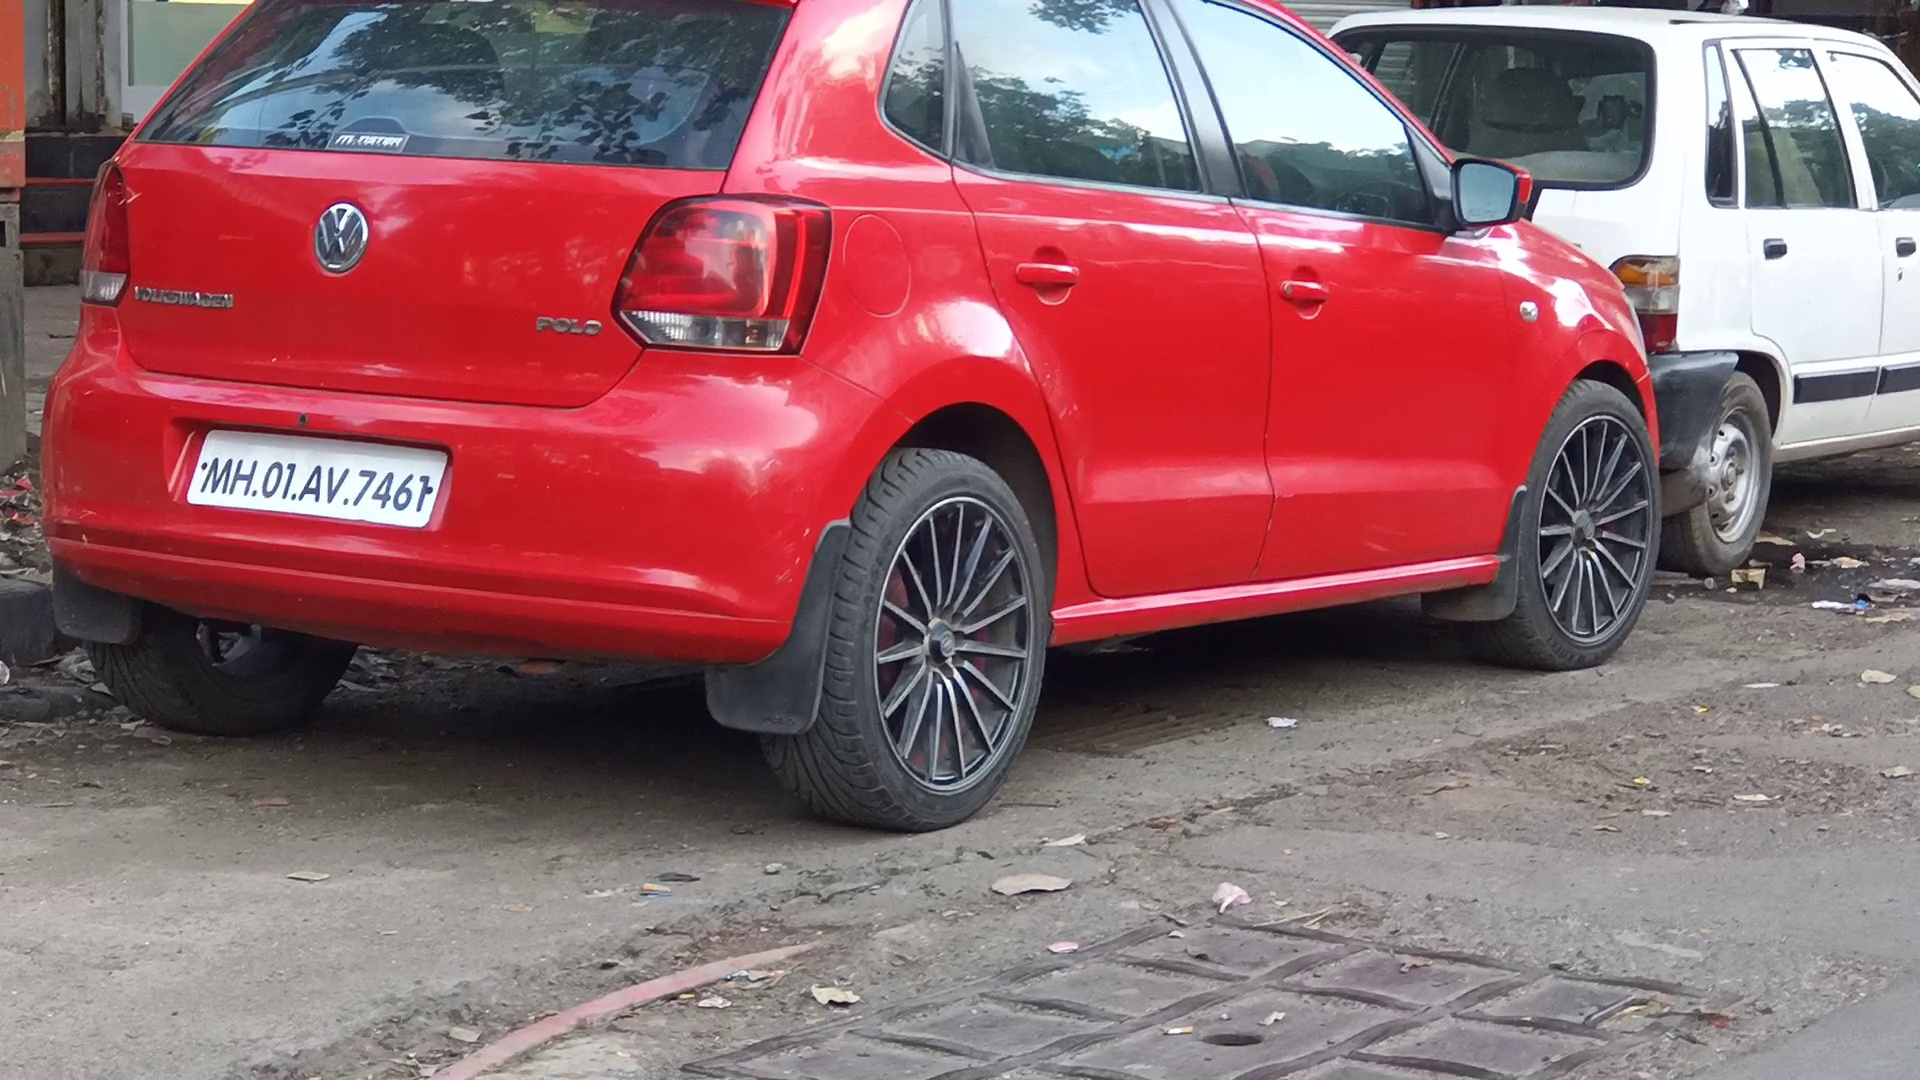MH01AV7461: (188, 428, 445, 527)
